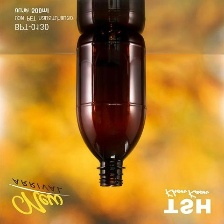insecticide: (71, 23, 149, 190)
